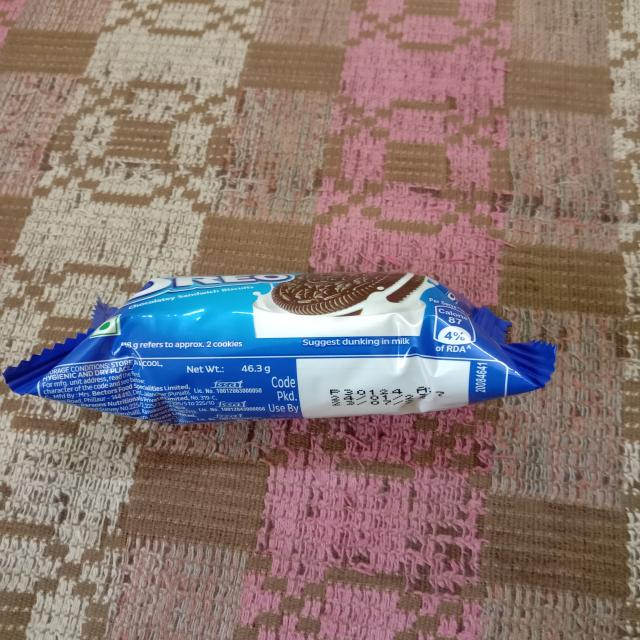oreo biscuit: (2, 266, 559, 429)
